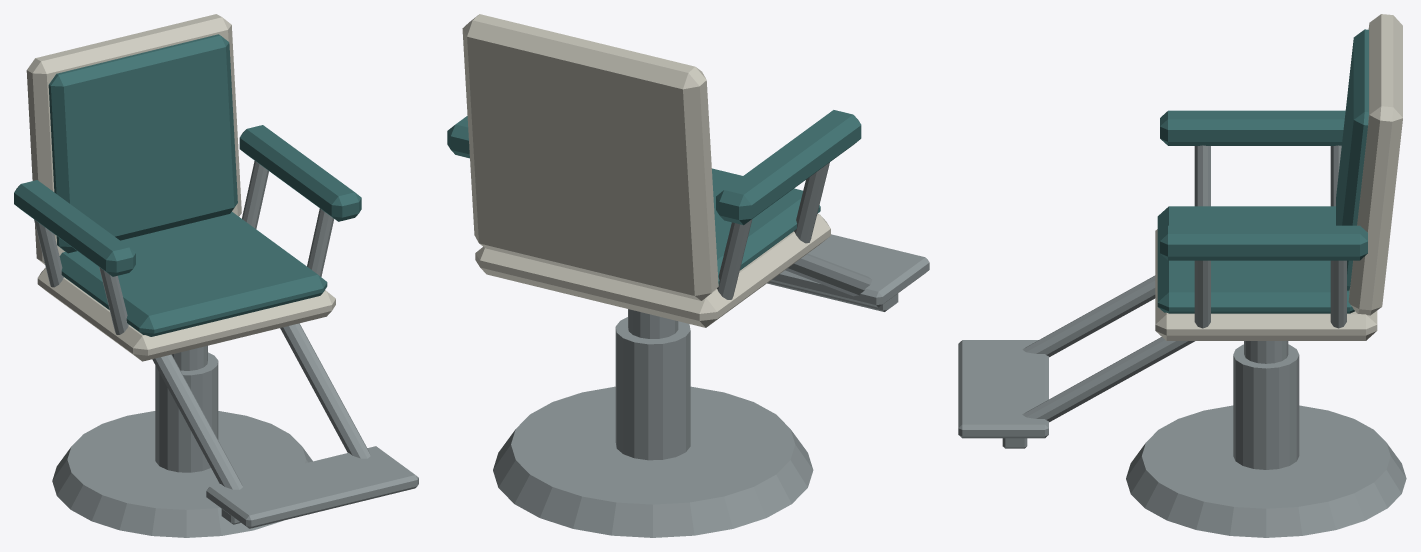
3 views of the same model, side by side, from view 1: azimuth 30°, elevation 25°; view 2: azimuth 150°, elevation 25°; view 3: azimuth 270°, elevation 25° (orthographic). The views are drawn at different scales.
Parts seen in each view (by area): view 1: Back inset cushion, Grounded tapered pedestal disc, Seat thick inset cushion, Broad fixed foot platform, Fixed tapered-edge back shell, Seat supporting shell, Fixed column outer sleeve, Padded armrest 1, Padded armrest -1, Footrest load path strut -1, Footrest load path strut 1, Arm support 1 -0.14 (+4 smaller); view 2: Fixed tapered-edge back shell, Grounded tapered pedestal disc, Fixed column outer sleeve, Seat supporting shell, Padded armrest -1, Broad fixed foot platform, Seat thick inset cushion, Footrest load path strut -1, Arm support -1 0.16, Arm support -1 -0.14, Fixed upper column, Padded armrest 1 (+1 smaller); view 3: Grounded tapered pedestal disc, Seat thick inset cushion, Fixed tapered-edge back shell, Broad fixed foot platform, Fixed column outer sleeve, Padded armrest 1, Padded armrest -1, Seat supporting shell, Back inset cushion, Footrest load path strut 1, Footrest load path strut -1, Arm support 1 0.16 (+4 smaller).
Boxes of the visible parts, x1,y1,x2,y2 form: Back inset cushion: (48,34,237,253); Grounded tapered pedestal disc: (52,411,312,537); Seat thick inset cushion: (59,212,327,336); Broad fixed foot platform: (206,446,418,528); Fixed tapered-edge back shell: (26,14,241,264); Seat supporting shell: (37,267,335,361); Fixed column outer sleeve: (155,352,218,472); Padded armrest 1: (239,125,361,221); Padded armrest -1: (14,180,135,276); Footrest load path strut -1: (152,354,242,489); Footrest load path strut 1: (280,323,370,458); Arm support 1 -0.14: (307,208,333,276); Fixed tapered-edge back shell: (462,14,718,300); Grounded tapered pedestal disc: (493,386,813,537); Fixed column outer sleeve: (615,317,690,460); Seat supporting shell: (475,214,830,327); Padded armrest -1: (716,110,861,225); Broad fixed foot platform: (770,234,929,307); Seat thick inset cushion: (712,168,820,285); Footrest load path strut -1: (785,253,871,296); Arm support -1 0.16: (717,219,752,299); Arm support -1 -0.14: (794,162,829,243); Fixed upper column: (628,309,678,338); Padded armrest 1: (447,116,469,158); Grounded tapered pedestal disc: (1126,405,1406,537); Seat thick inset cushion: (1157,206,1354,313); Fixed tapered-edge back shell: (1348,14,1402,315); Broad fixed foot platform: (958,340,1048,438); Fixed column outer sleeve: (1233,344,1299,469); Padded armrest 1: (1160,225,1367,260); Padded armrest -1: (1160,110,1345,145); Seat supporting shell: (1155,229,1377,340); Back inset cushion: (1336,29,1368,290); Footrest load path strut 1: (1022,337,1194,422); Footrest load path strut -1: (1022,275,1155,357); Arm support 1 0.16: (1330,260,1346,328).
Bounding box in the file's own units: 0.68 × 1.02 × 0.99.
